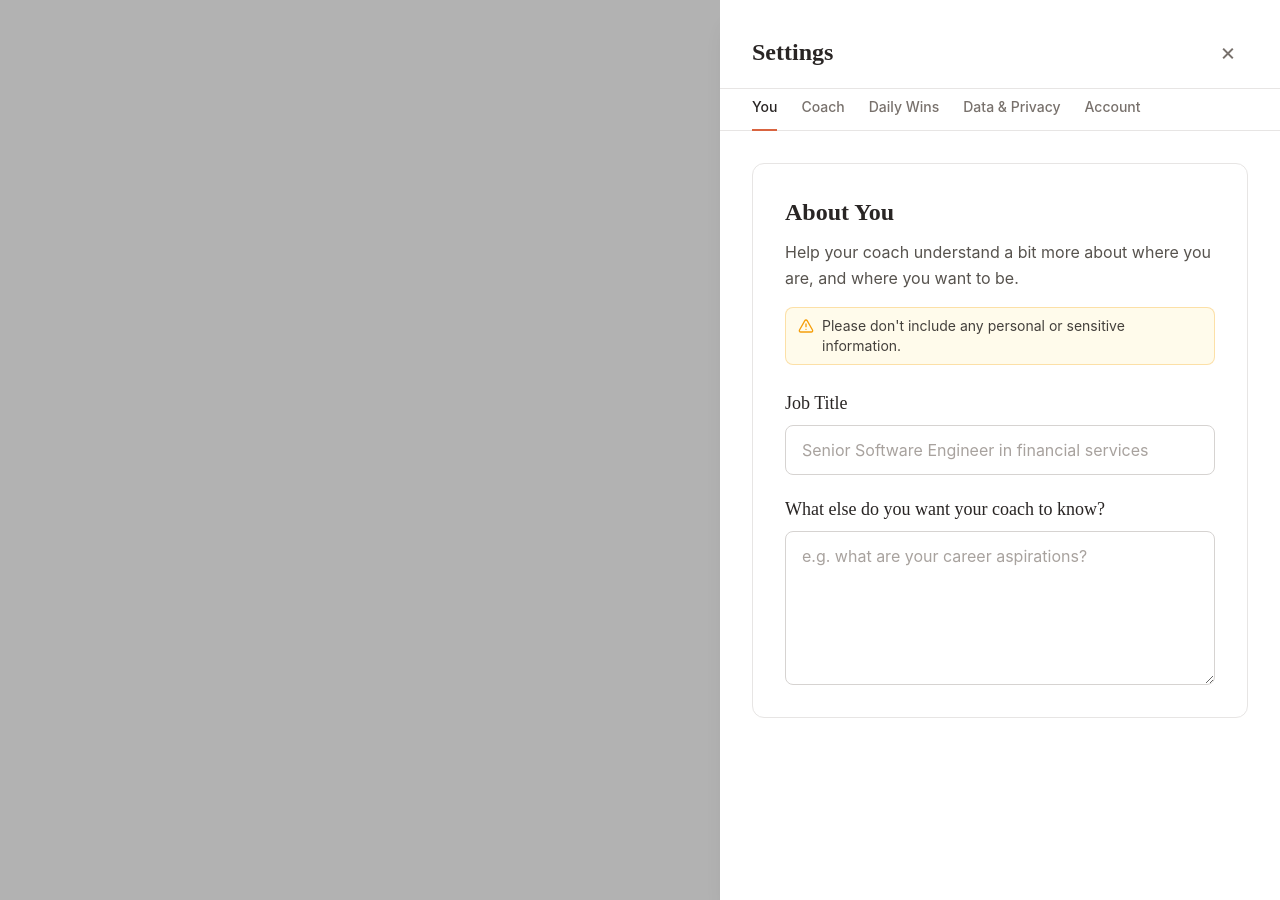
Scenario: SettingsDrawer › clicking Daily Wins tab shows CategoriesCard content
Click the tab "Daily Wins" at (904, 110), box [869, 89, 939, 131]
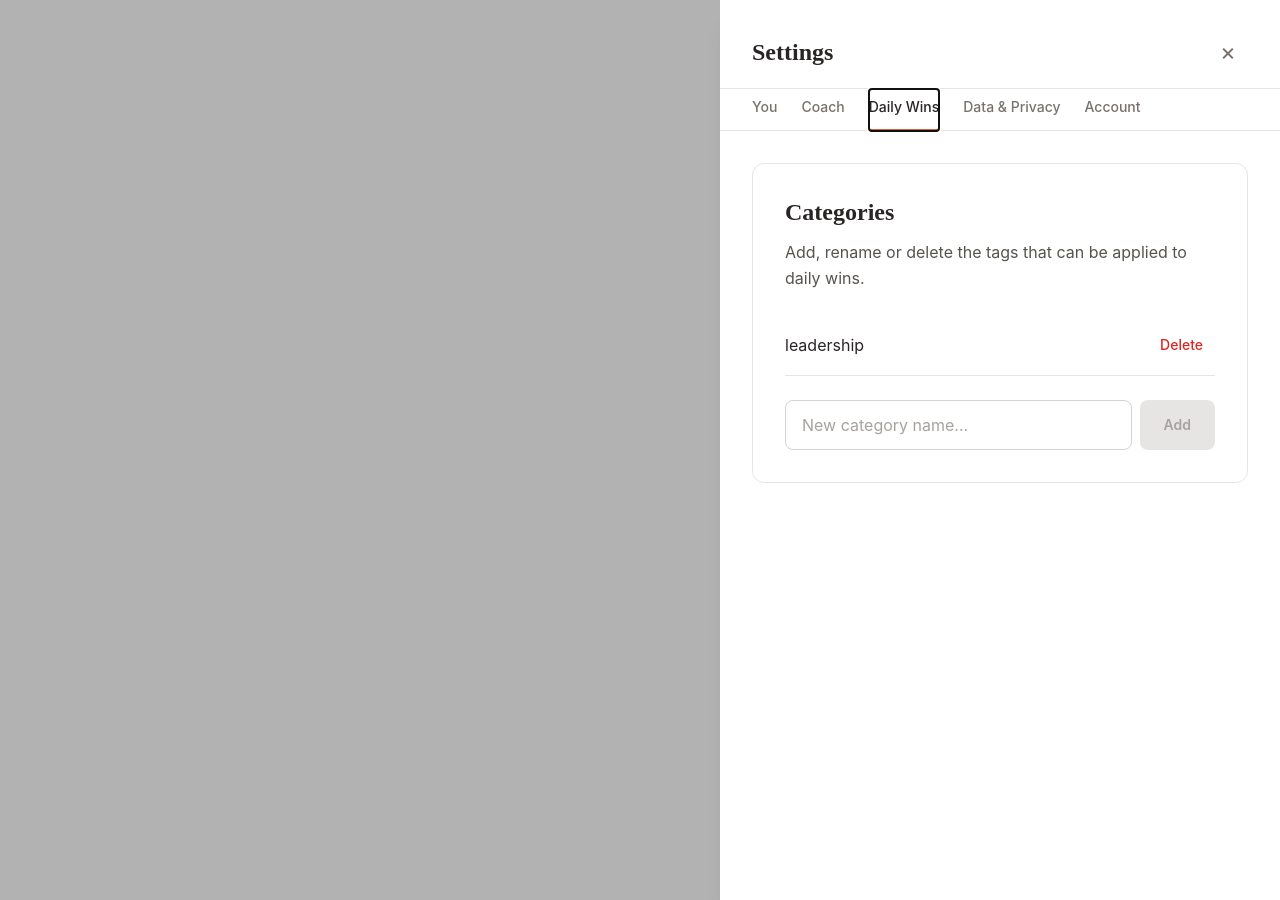
Expected: the field labelled "New category name" is shown, [785, 400, 1132, 450]
